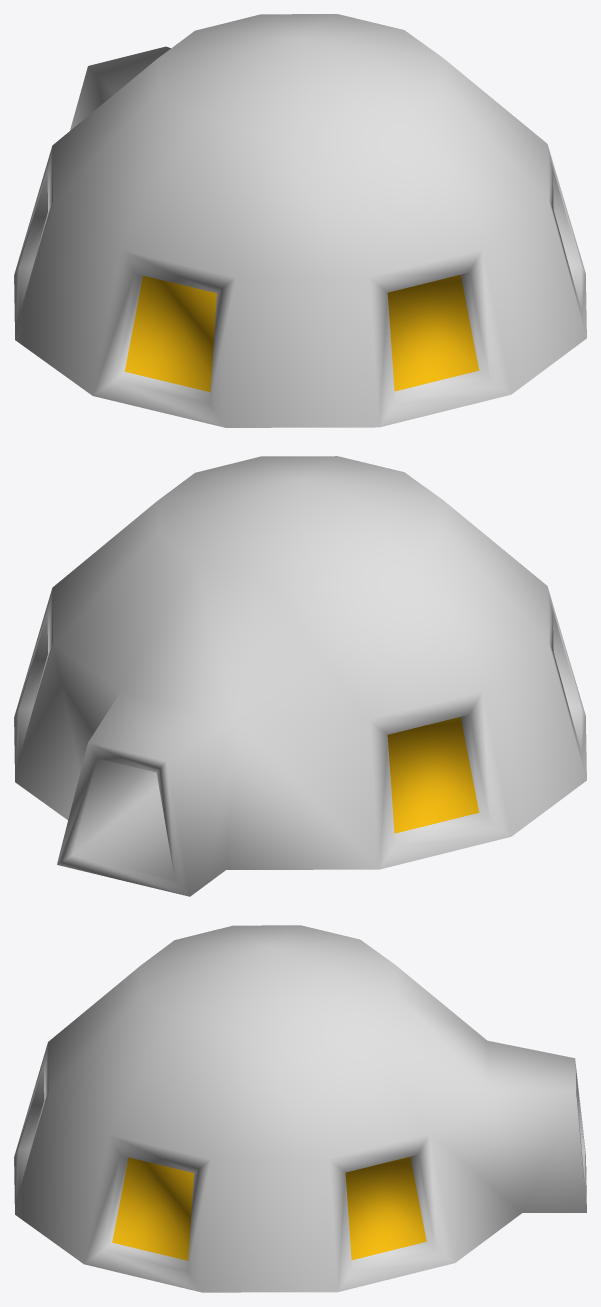
File: igloo.dae
3 views of the same model, one above another, from view 1: azimuth 30°, elevation 25°; view 2: azimuth 150°, elevation 25°; view 3: azimuth 270°, elevation 25° (orthographic). The views are drawn at different scales.
Parts seen in each view (by area): view 1: Sphere; view 2: Sphere; view 3: Sphere.
Boxes of the visible parts, x1,y1,x2,y2 form: Sphere: [14, 14, 586, 427]; Sphere: [14, 456, 586, 896]; Sphere: [14, 925, 586, 1292].
Size of the model in its own units: 622 by 321 by 701.
